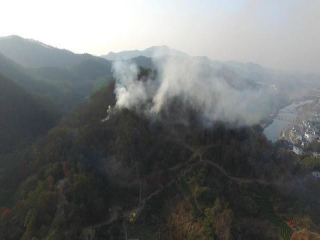smoke: (101, 43, 277, 133)
